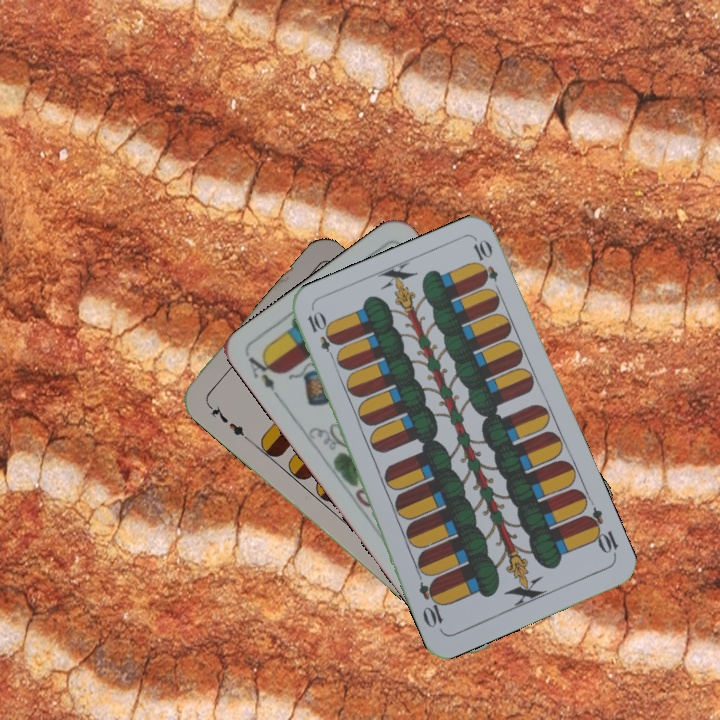E10: (580, 504, 621, 560), (303, 308, 340, 365)
E7: (203, 399, 252, 443)
EA: (244, 349, 284, 403)
